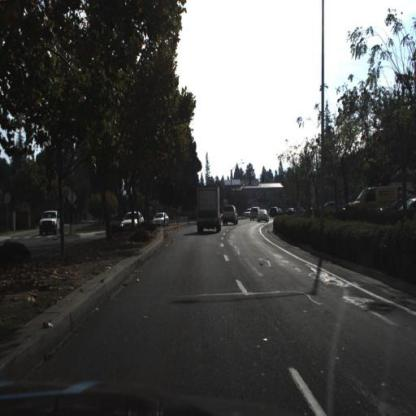car: (344, 182, 416, 222), (344, 184, 415, 211), (195, 185, 226, 236), (39, 207, 62, 239), (120, 210, 147, 229), (222, 202, 241, 228), (152, 210, 171, 229), (258, 207, 271, 226), (257, 210, 271, 224)
truck: (196, 185, 224, 238)
